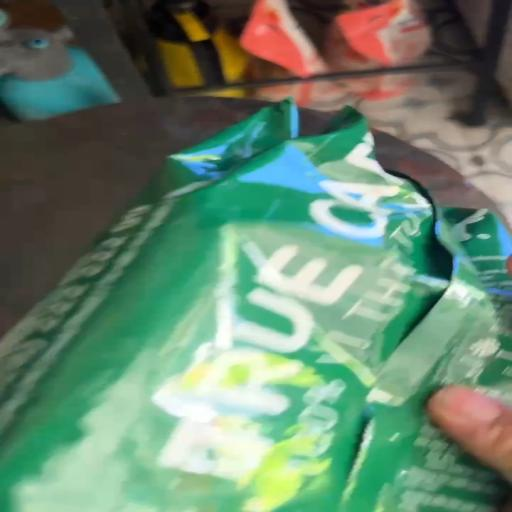cafe_xay: (0, 101, 511, 512)
